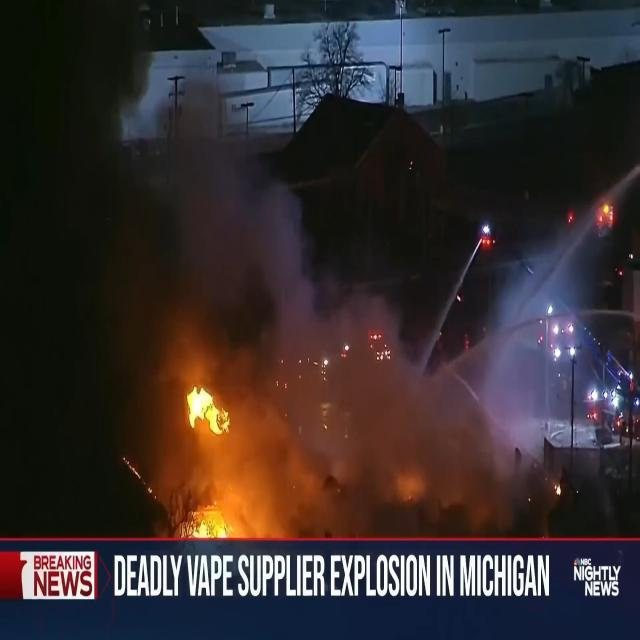fire: (160, 324, 258, 454), (162, 484, 266, 538)
